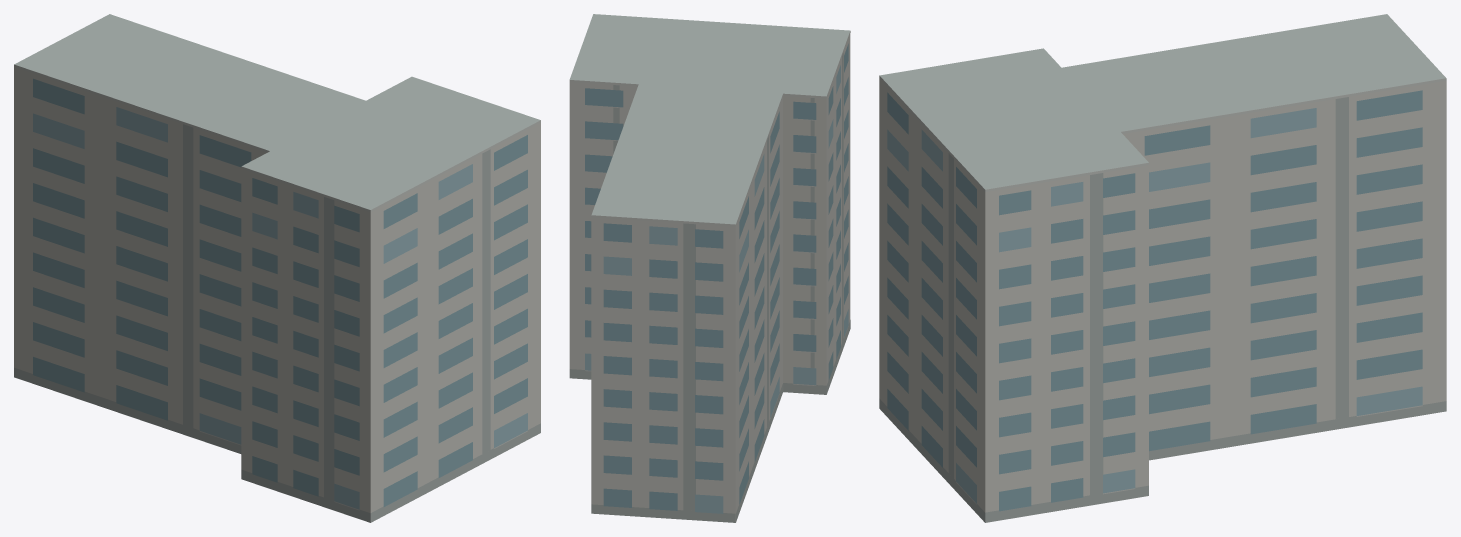
File: residential-60e8eb97-04ce-4417-96fd-b74d765b7bc7.glb
3 views of the same model, side by side, from view 1: azimuth 30°, elevation 25°; view 2: azimuth 150°, elevation 25°; view 3: azimuth 270°, elevation 25° (orthographic). The views are drawn at different scales.
Visible parts, largest first — view 1: residential-60e8eb97-04ce-4417-96fd-b74d765b7bc7.tmp; view 2: residential-60e8eb97-04ce-4417-96fd-b74d765b7bc7.tmp; view 3: residential-60e8eb97-04ce-4417-96fd-b74d765b7bc7.tmp.
Part boxes in pixels (x1,y1,x2,y2): residential-60e8eb97-04ce-4417-96fd-b74d765b7bc7.tmp: (14,14,540,522); residential-60e8eb97-04ce-4417-96fd-b74d765b7bc7.tmp: (569,14,850,522); residential-60e8eb97-04ce-4417-96fd-b74d765b7bc7.tmp: (879,14,1446,522).
Bounding box in the file's own units: 35.08 × 31 × 47.82.
